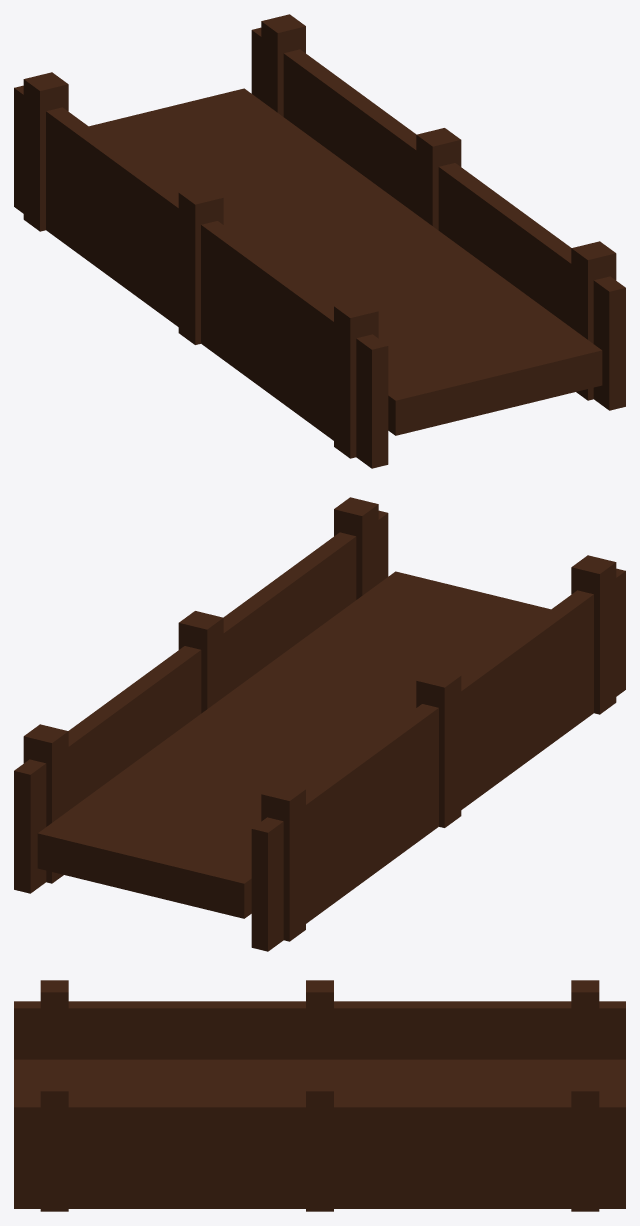
Rendered from bridge.obj.
3 renders of one model, top to bottom at view 1: azimuth 30°, elevation 25°; view 2: azimuth 150°, elevation 25°; view 3: azimuth 270°, elevation 25°, orthographic. The views are drawn at different scales.
Parts seen in each view (by area): view 1: StoryWorld_Bridge; view 2: StoryWorld_Bridge; view 3: StoryWorld_Bridge.
Part boxes in pixels (box(x1,y1,x2,y2)): StoryWorld_Bridge: box(14, 14, 625, 468); StoryWorld_Bridge: box(14, 497, 625, 951); StoryWorld_Bridge: box(14, 980, 625, 1211).
Bounding box in the file's own units: 5.15 × 2.6 × 12.
